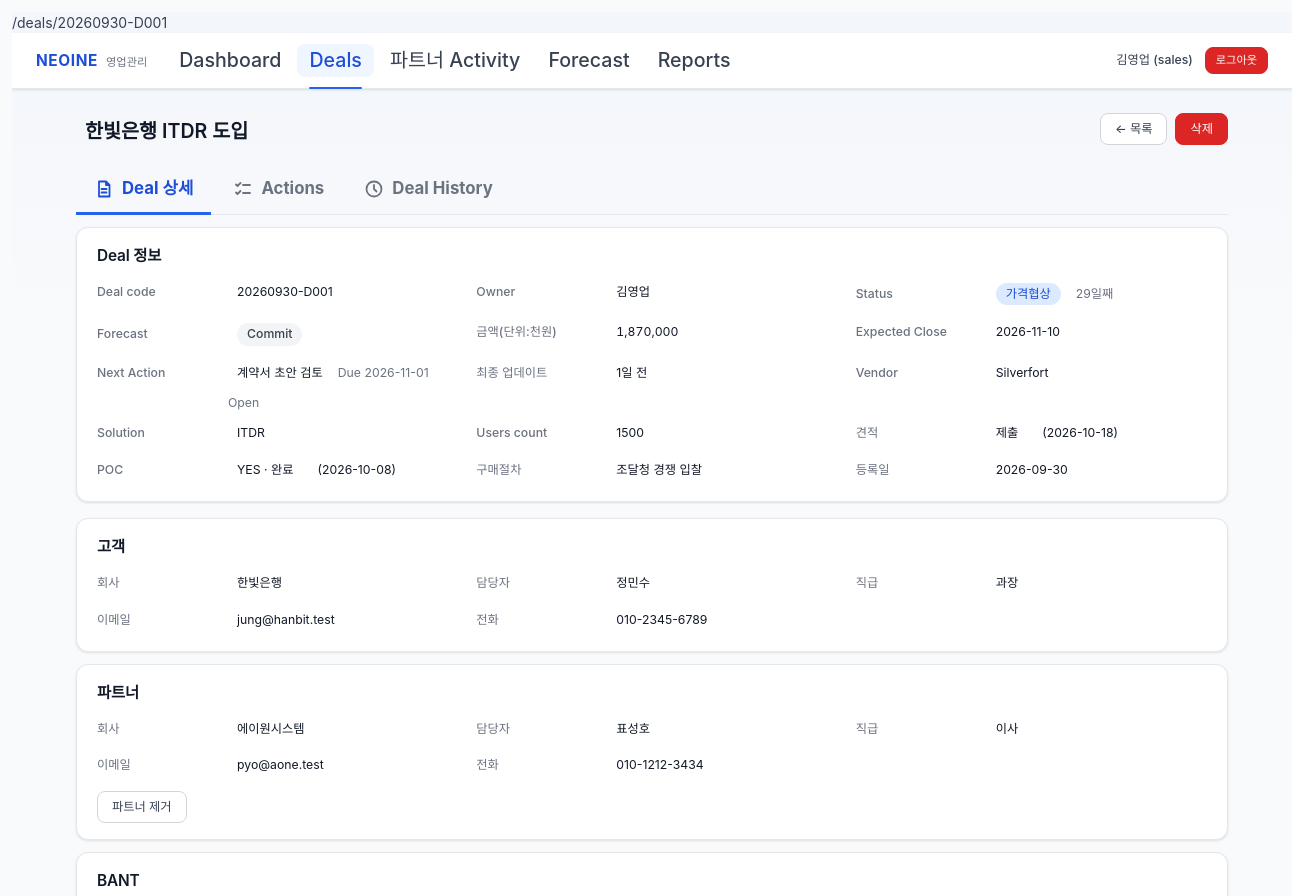
Test case: 고객사 인라인 편집 (회사명 pulldown + 자동완성) › blocks spaces in company, person, email and phone and tells the user
The width and height of the screenshot is (1292, 896).
expect the heading "한빛은행 ITDR 도입" is shown: met, box x1=76 y1=113 x2=257 y2=150
Click the button with aria-label "고객 회사명 수정". click: (260, 583)
box: x1=228 y1=568 x2=291 y2=598
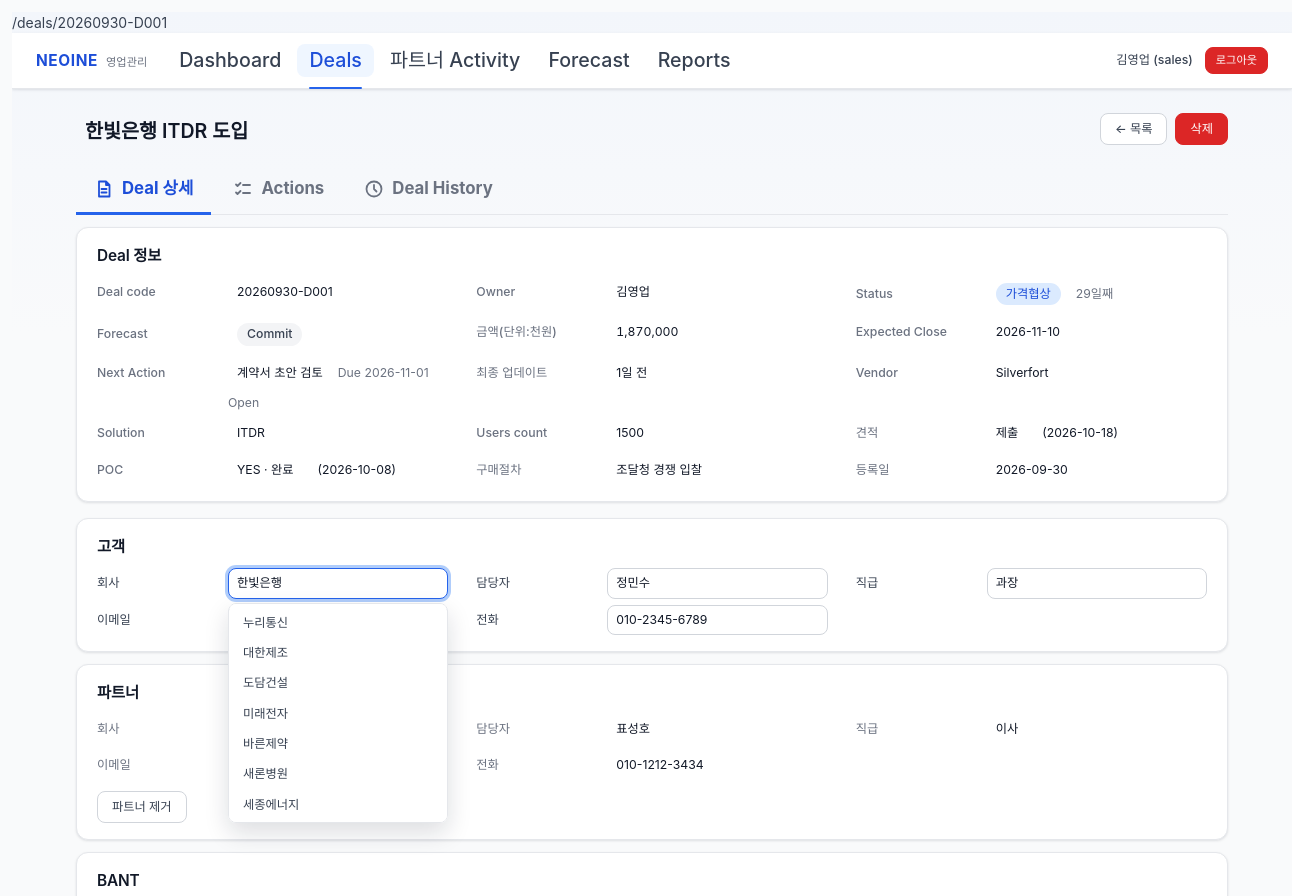
Replace the text in the dropdown named "고객 회사명" with "신 규". click: (338, 583)
box: x1=228 y1=568 x2=448 y2=598
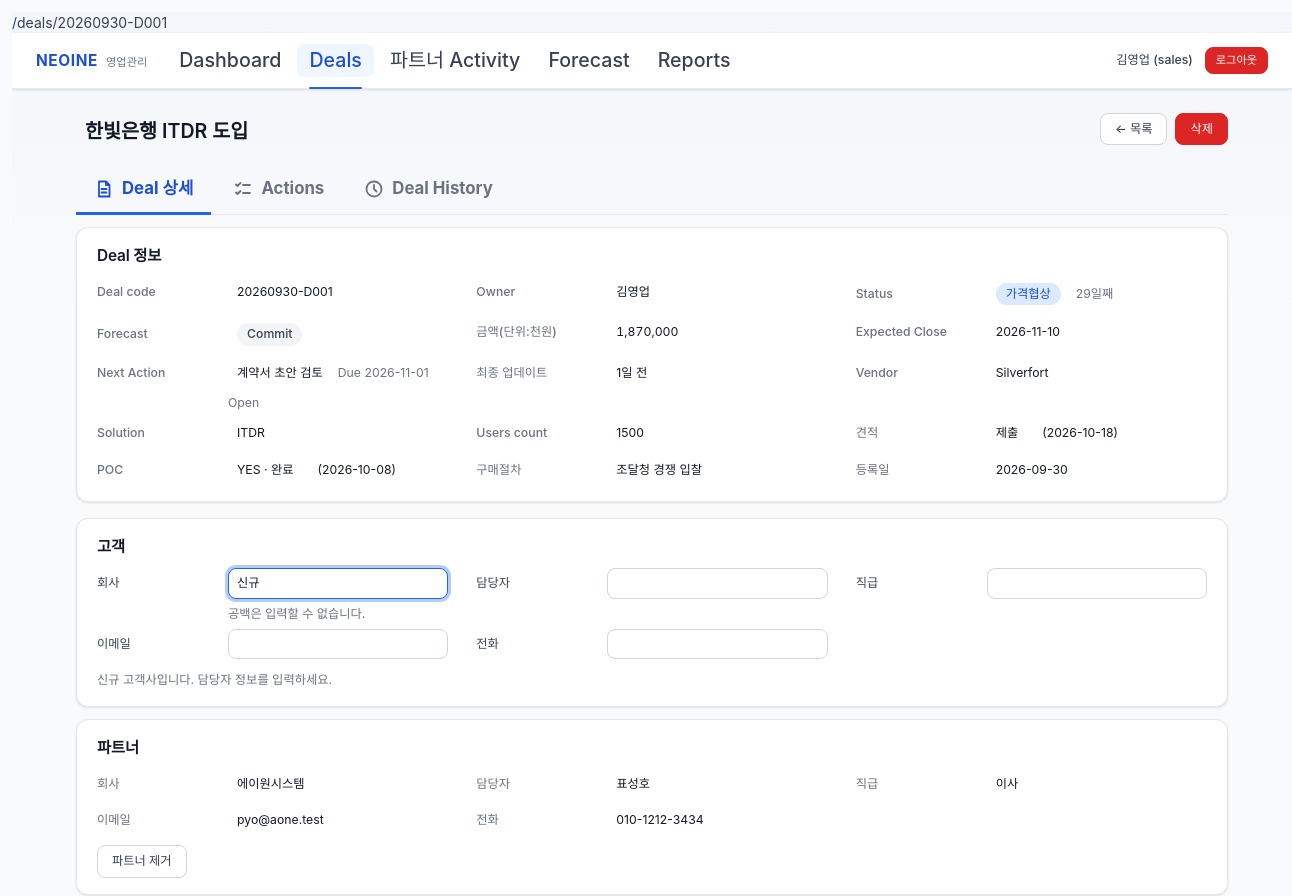
expect the dropdown named "고객 회사명" holds "신규": met, box x1=228 y1=568 x2=448 y2=598
expect the text "공백은 입력할 수 없습니다." is shown: met, box x1=228 y1=606 x2=366 y2=620
Press Escape Escape
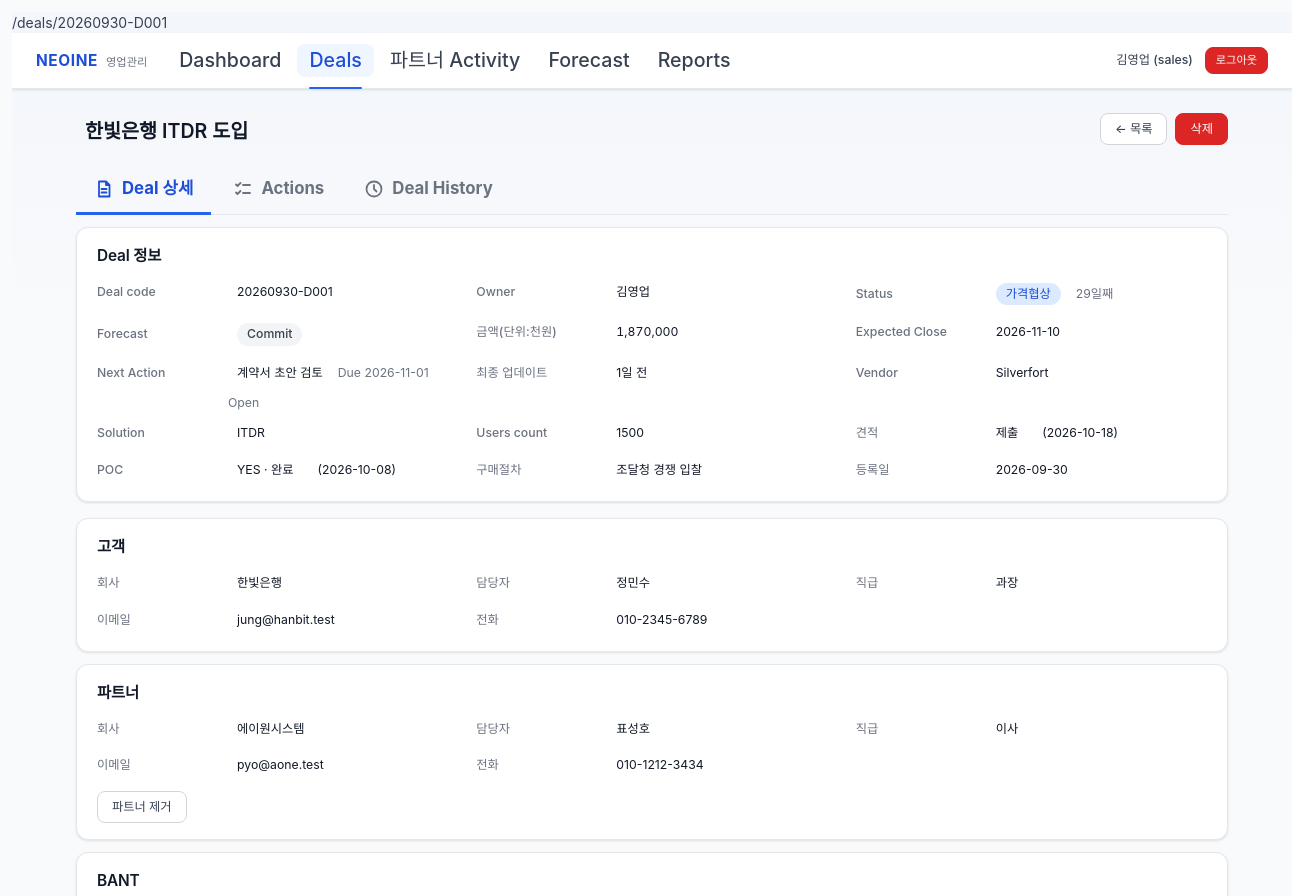
Click the button with aria-label "고객 이메일 수정". click: (286, 620)
box: x1=228 y1=604 x2=344 y2=635
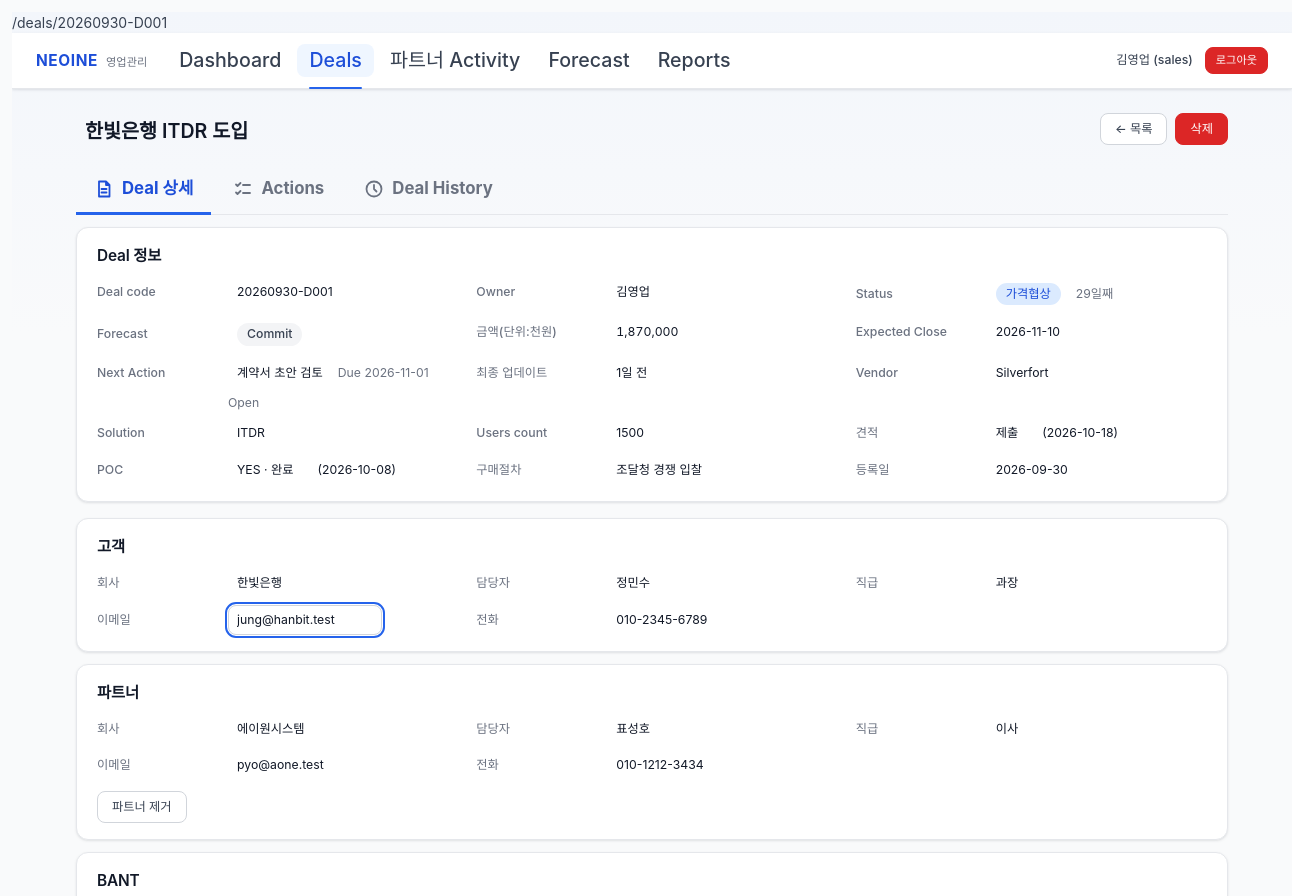
Replace the text in the field named "고객 이메일" with "a b@x.kr". click: (305, 620)
box: x1=228 y1=604 x2=382 y2=635
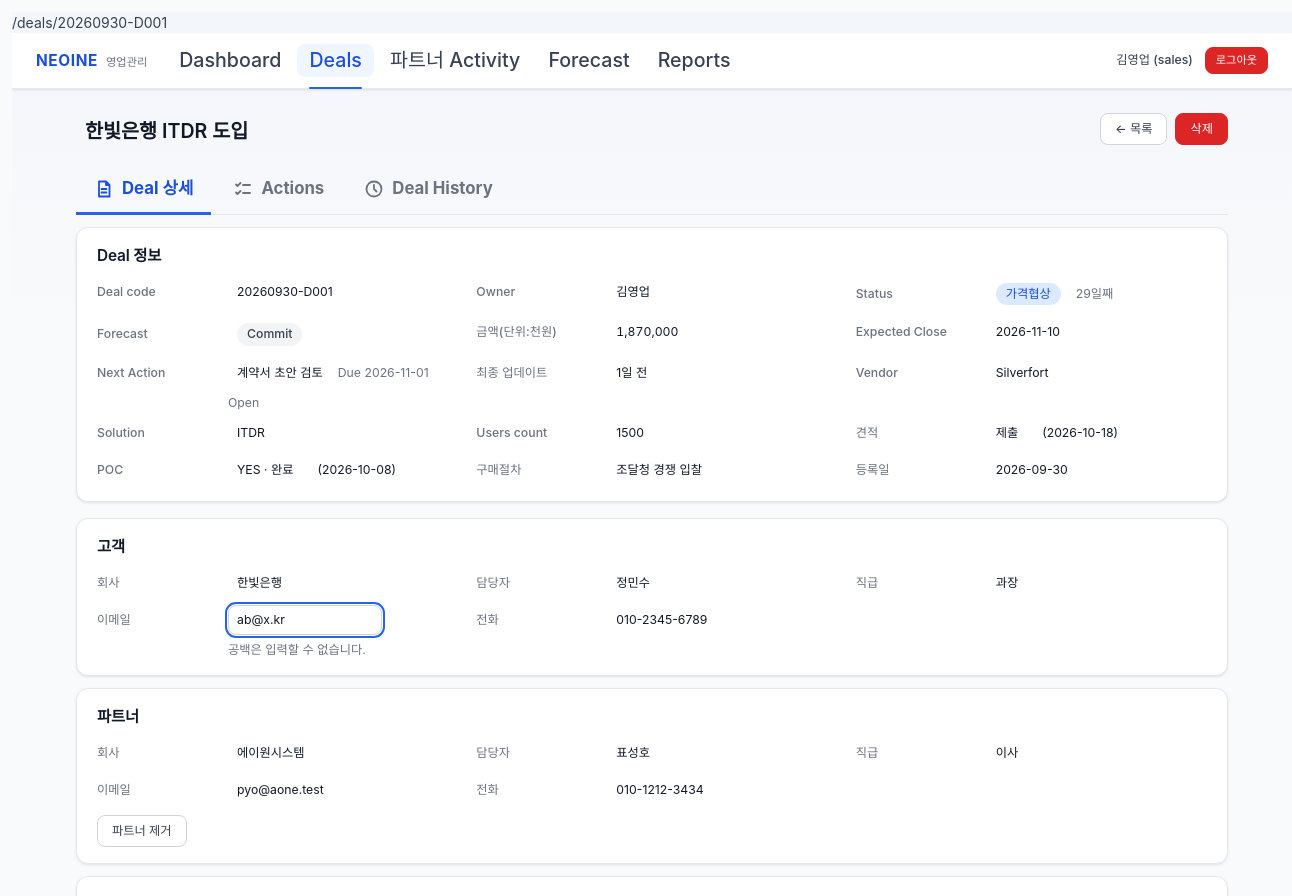
expect the field named "고객 이메일" holds "ab@x.kr": met, box x1=228 y1=604 x2=382 y2=635
expect the text "공백은 입력할 수 없습니다." is shown: met, box x1=228 y1=642 x2=366 y2=657
